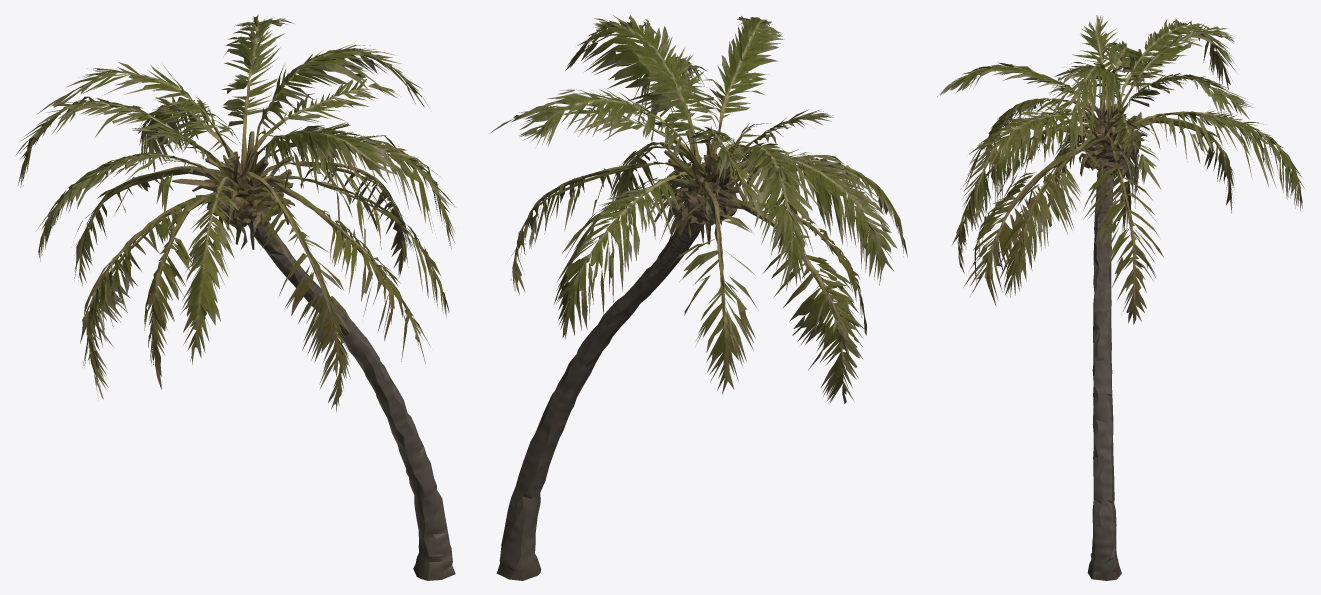
Rendered from palm-tree.glb.
3 views of the same model, side by side, from view 1: azimuth 30°, elevation 25°; view 2: azimuth 150°, elevation 25°; view 3: azimuth 270°, elevation 25° (orthographic). The views are drawn at different scales.
Parts seen in each view (by area): view 1: Mesh_0; view 2: Mesh_0; view 3: Mesh_0.
Part boxes in pixels (bbox=[...]): Mesh_0: bbox=[15, 14, 455, 580]; Mesh_0: bbox=[489, 15, 907, 580]; Mesh_0: bbox=[937, 15, 1304, 580].
Size of the model in its own units: 1.42 by 1.89 by 1.36.
Materials: 1 (1 with a texture image).
